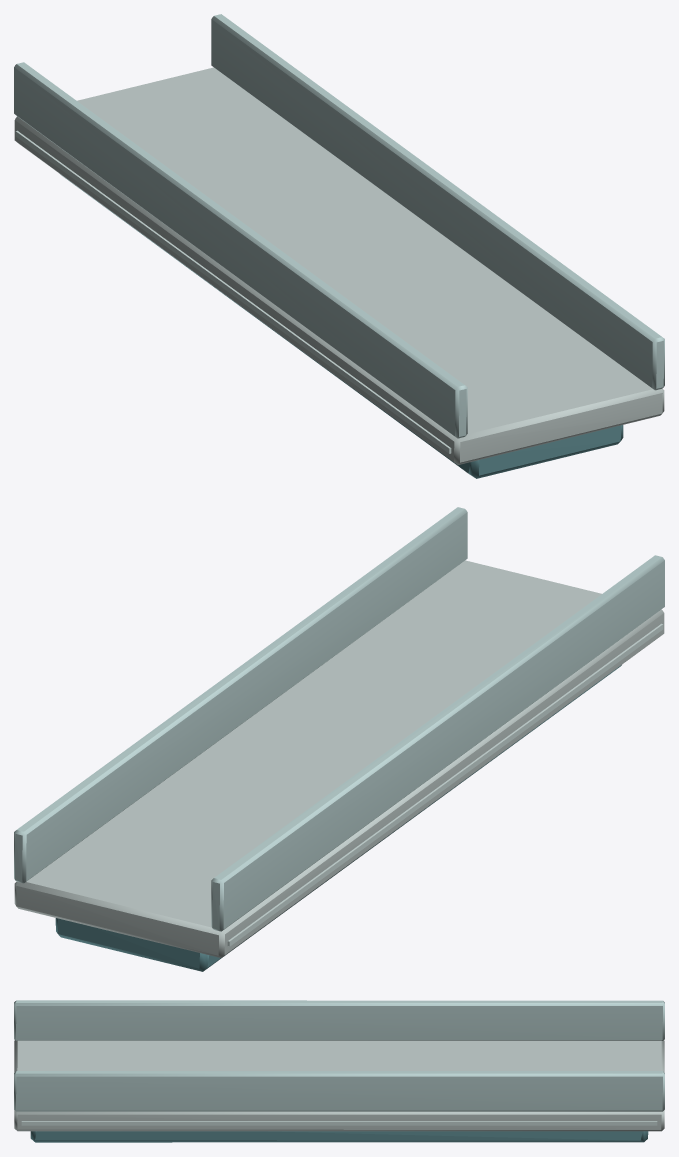
File: bridge.lod.glb
3 views of the same model, one above another, from view 1: azimuth 30°, elevation 25°; view 2: azimuth 150°, elevation 25°; view 3: azimuth 270°, elevation 25° (orthographic). The views are drawn at different scales.
Visible parts, largest first — view 1: bridge; view 2: bridge; view 3: bridge.
Part boxes in pixels (left/top/right/bottom): bridge: left=14, top=14, right=664, bottom=478; bridge: left=14, top=507, right=664, bottom=971; bridge: left=14, top=1000, right=664, bottom=1142.
Bounding box in the file's own units: 4.44 × 2.17 × 15.98.
